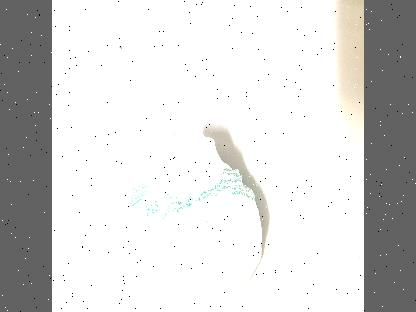Others: (86, 113, 268, 312)
